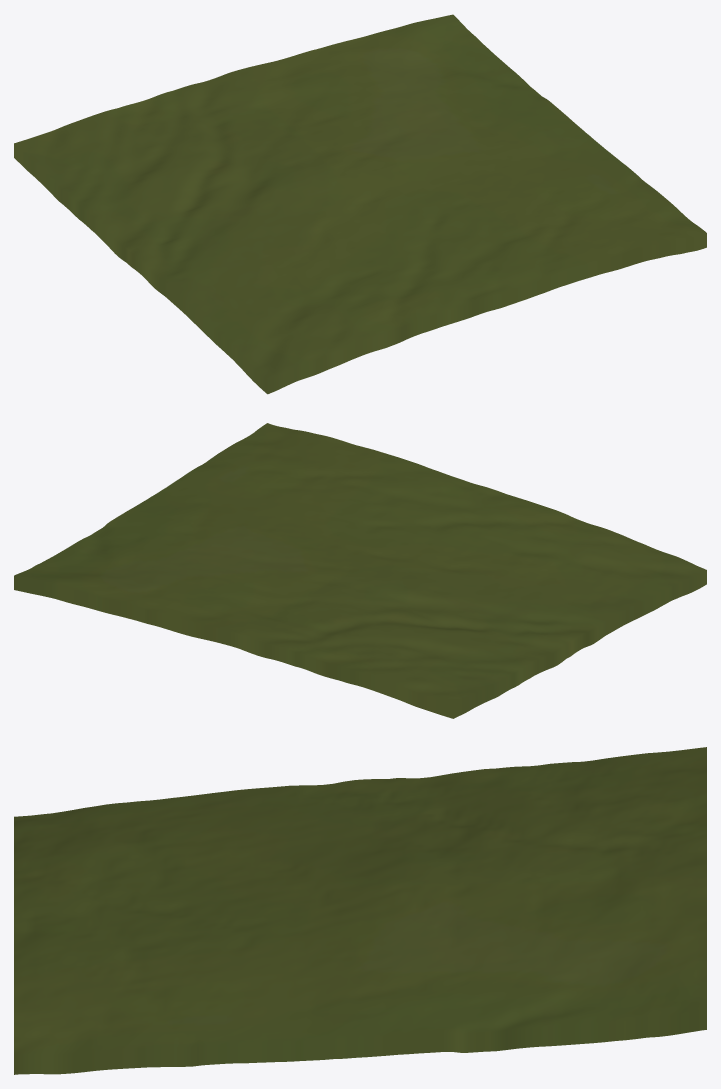
File: terrain_-1_-2.glb
3 renders of one model, top to bottom at view 1: azimuth 30°, elevation 25°; view 2: azimuth 150°, elevation 25°; view 3: azimuth 270°, elevation 25°, orthographic. The views are drawn at different scales.
Visible parts, largest first — view 1: terrain_-1_-2; view 2: terrain_-1_-2; view 3: terrain_-1_-2.
Part boxes in pixels (<box>): terrain_-1_-2: <box>14,14,706,394</box>; terrain_-1_-2: <box>14,423,706,718</box>; terrain_-1_-2: <box>14,747,706,1074</box>.
Bounding box in the file's own units: 256 × 49.2 × 256.
